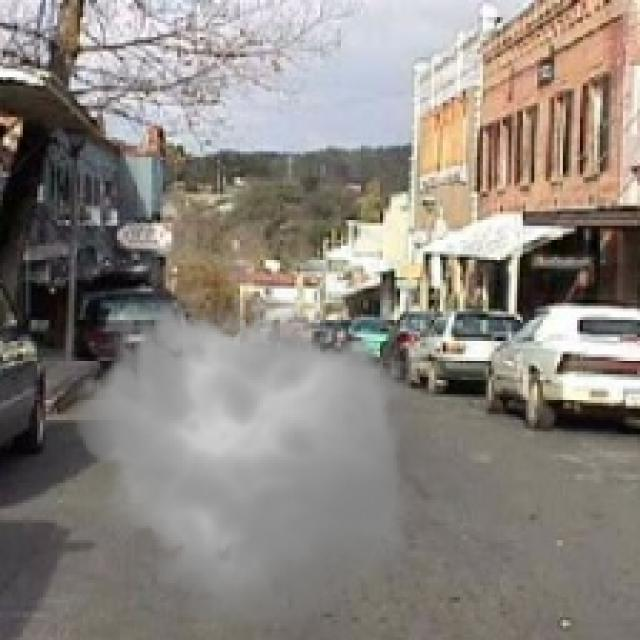smoke: (60, 280, 429, 637)
